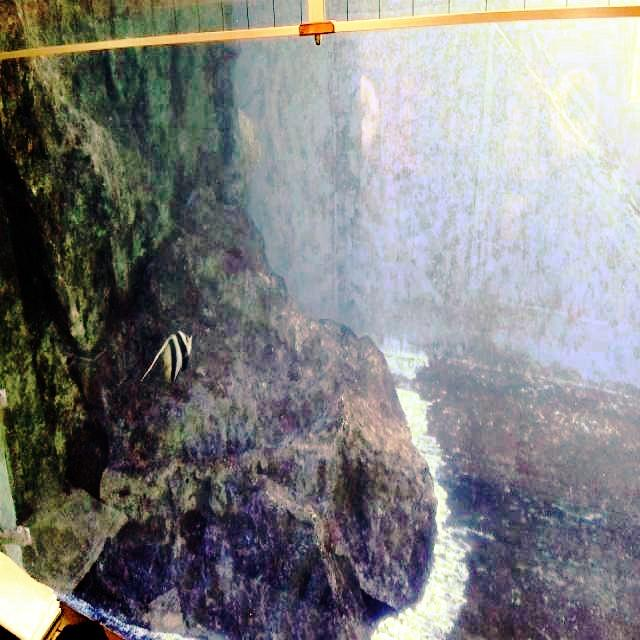angelfish: (136, 317, 202, 395)
